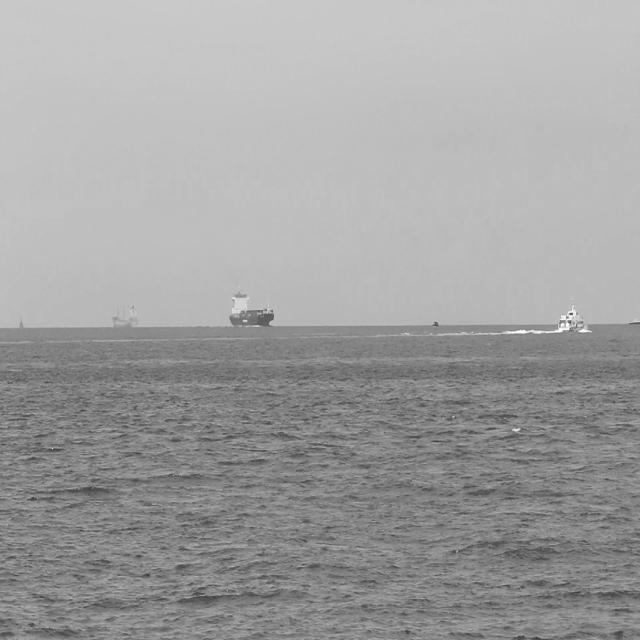ship: (228, 278, 277, 330), (554, 298, 587, 336), (110, 298, 142, 331), (625, 313, 640, 327)
